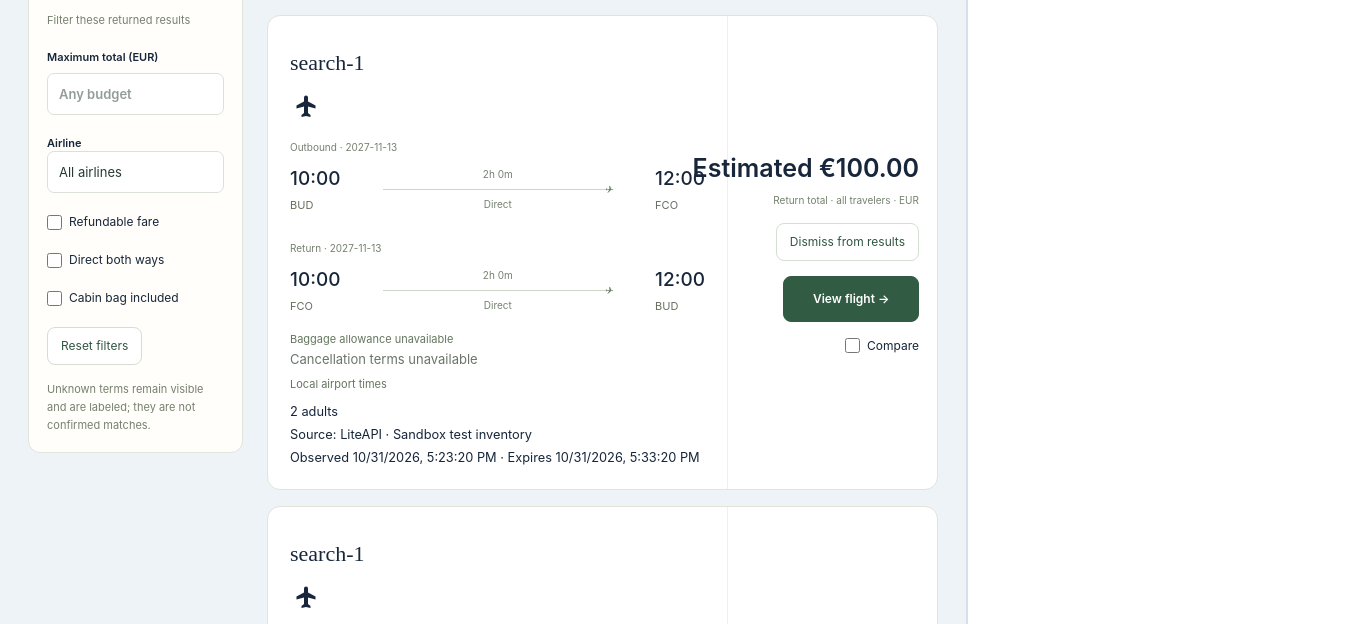
it: manual review receipt preserves initial hydration but invalidates changed brief: initial
(page scrolled)
Click the checkbox labelled "Compare" at (852, 346), box [845,338,860,353]
(page scrolled)
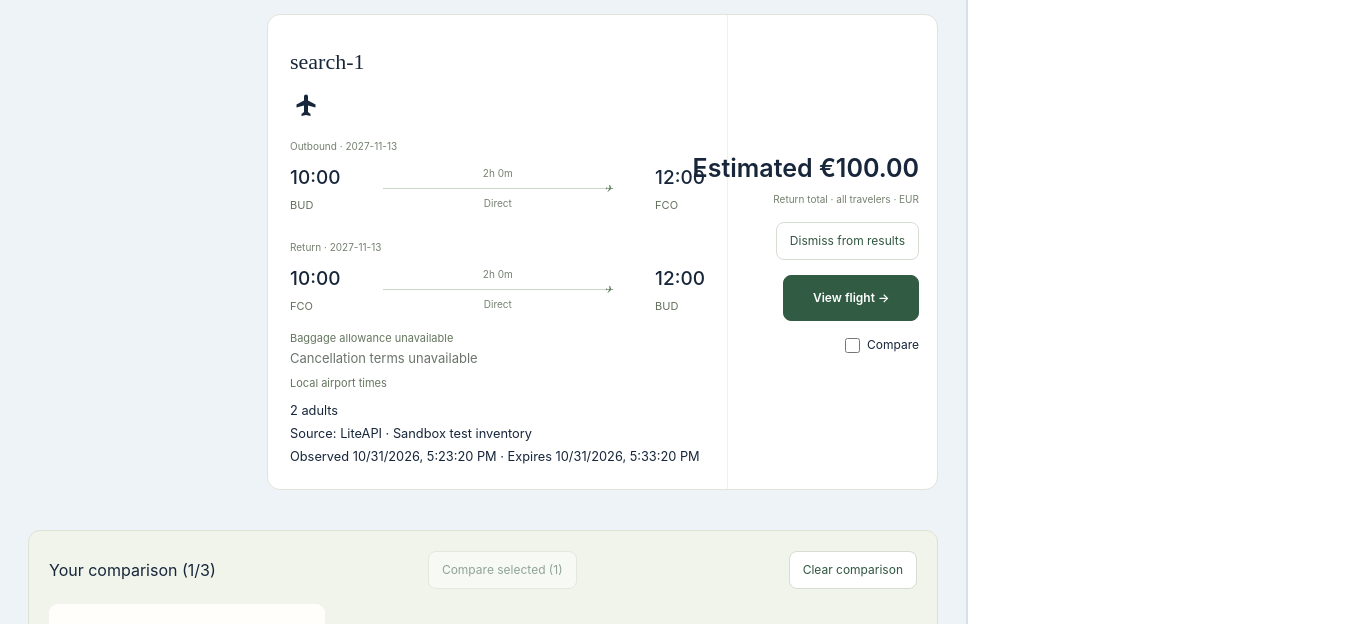
Click the checkbox labelled "Compare" at (852, 345), box [845,338,860,353]
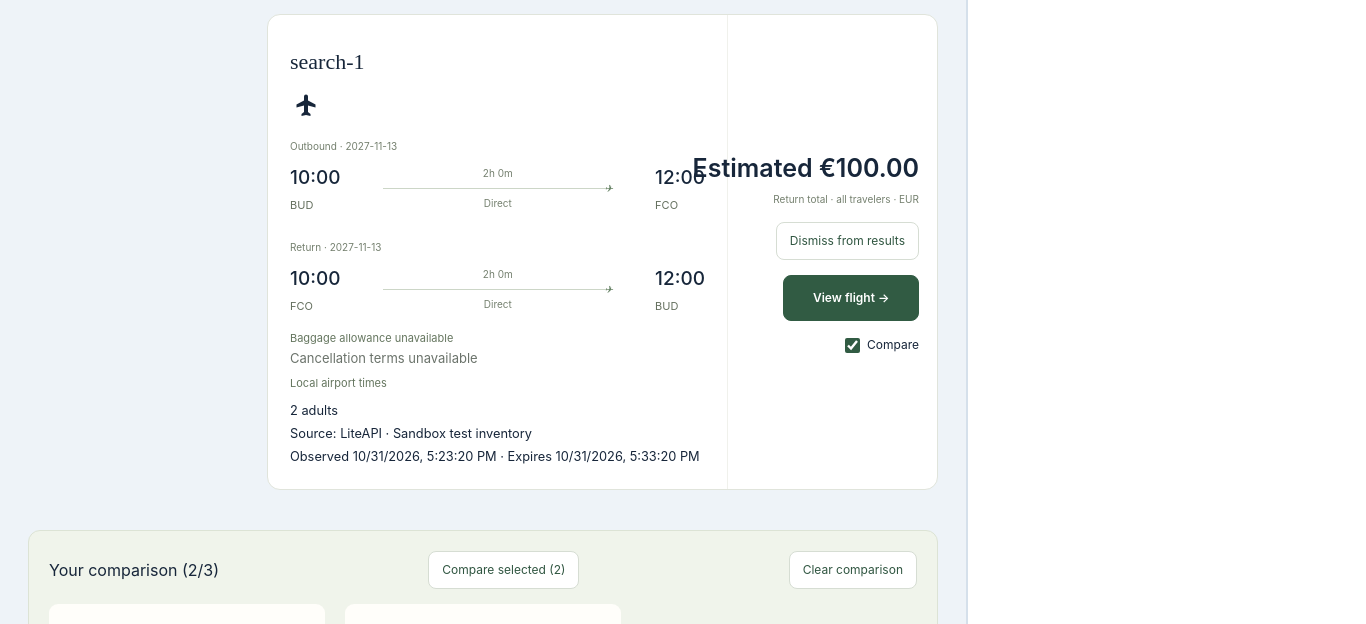
Click the button "Compare selected (2)" at (504, 570), box [428,551,579,589]
(page scrolled)
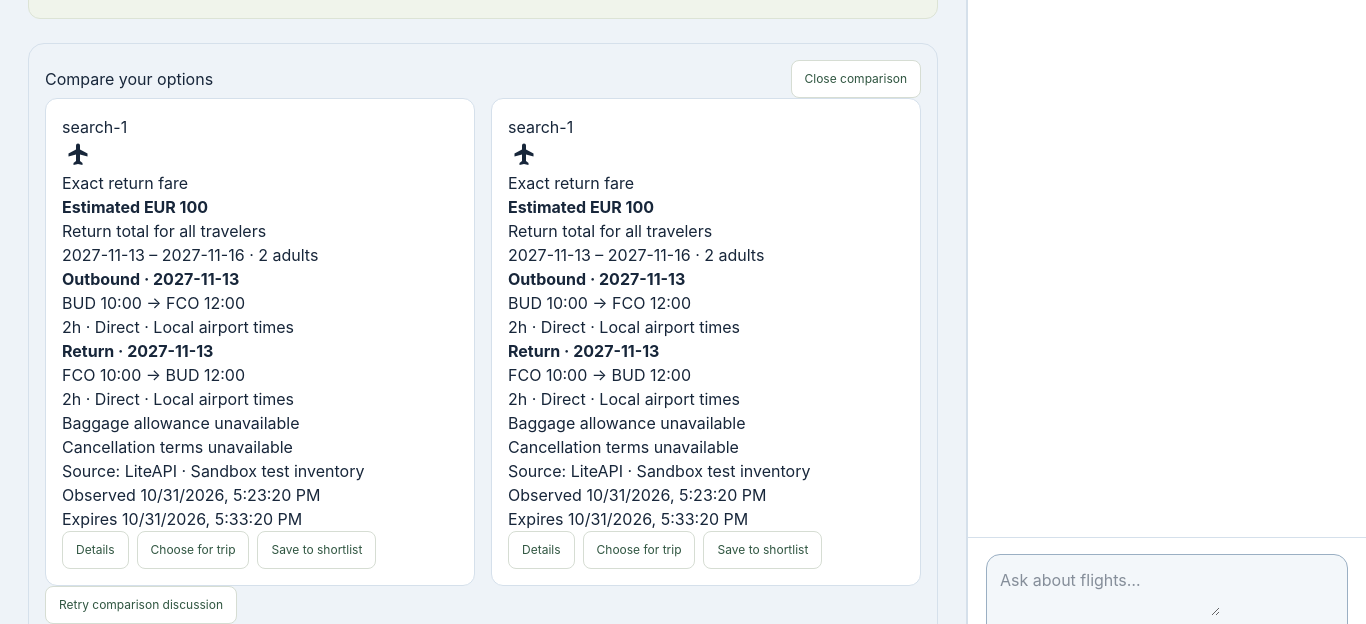
Click the 1st button "Choose for trip" at (193, 550), box [136,531,250,569]
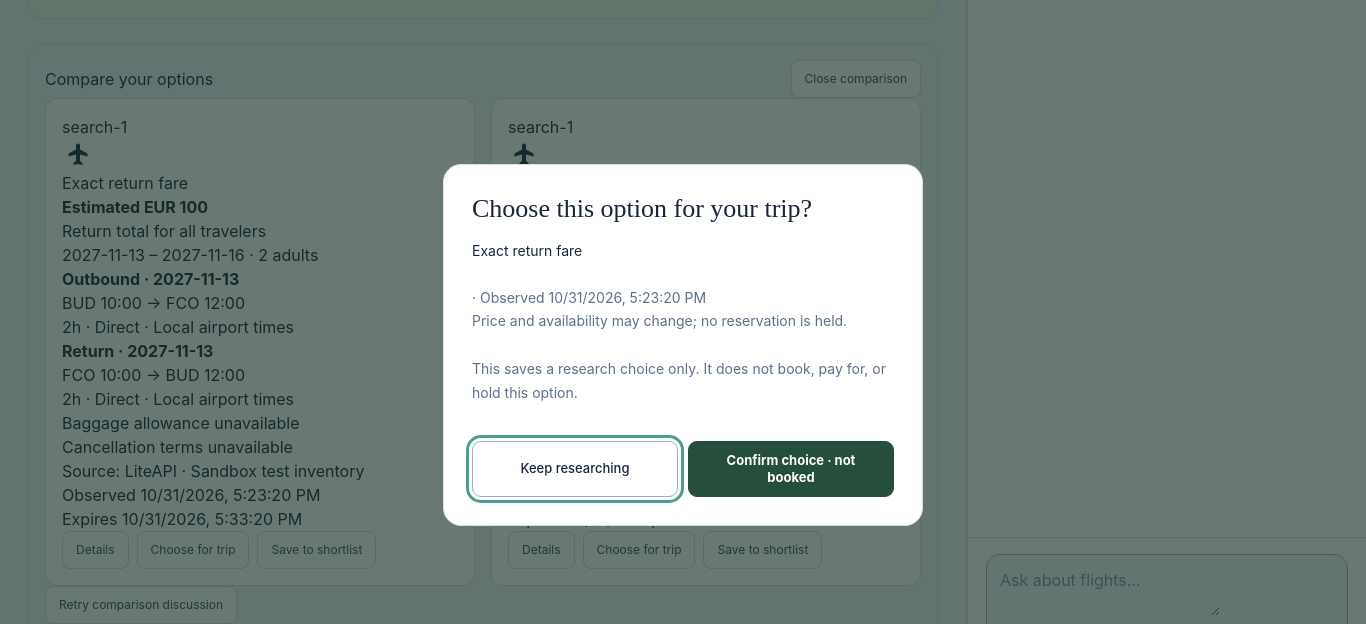
Check: the button "Confirm choice · not booked" is shown, box [688,441,894,497]
